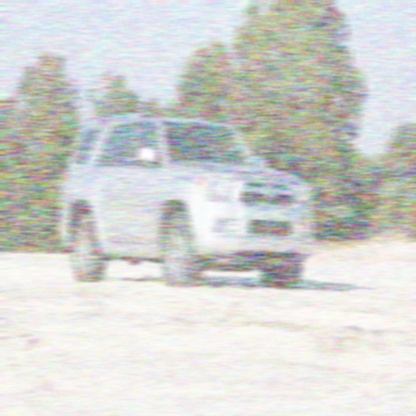Vehicle: (56, 110, 318, 291)
